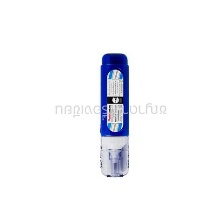correction_fluid: (97, 48, 133, 179)
